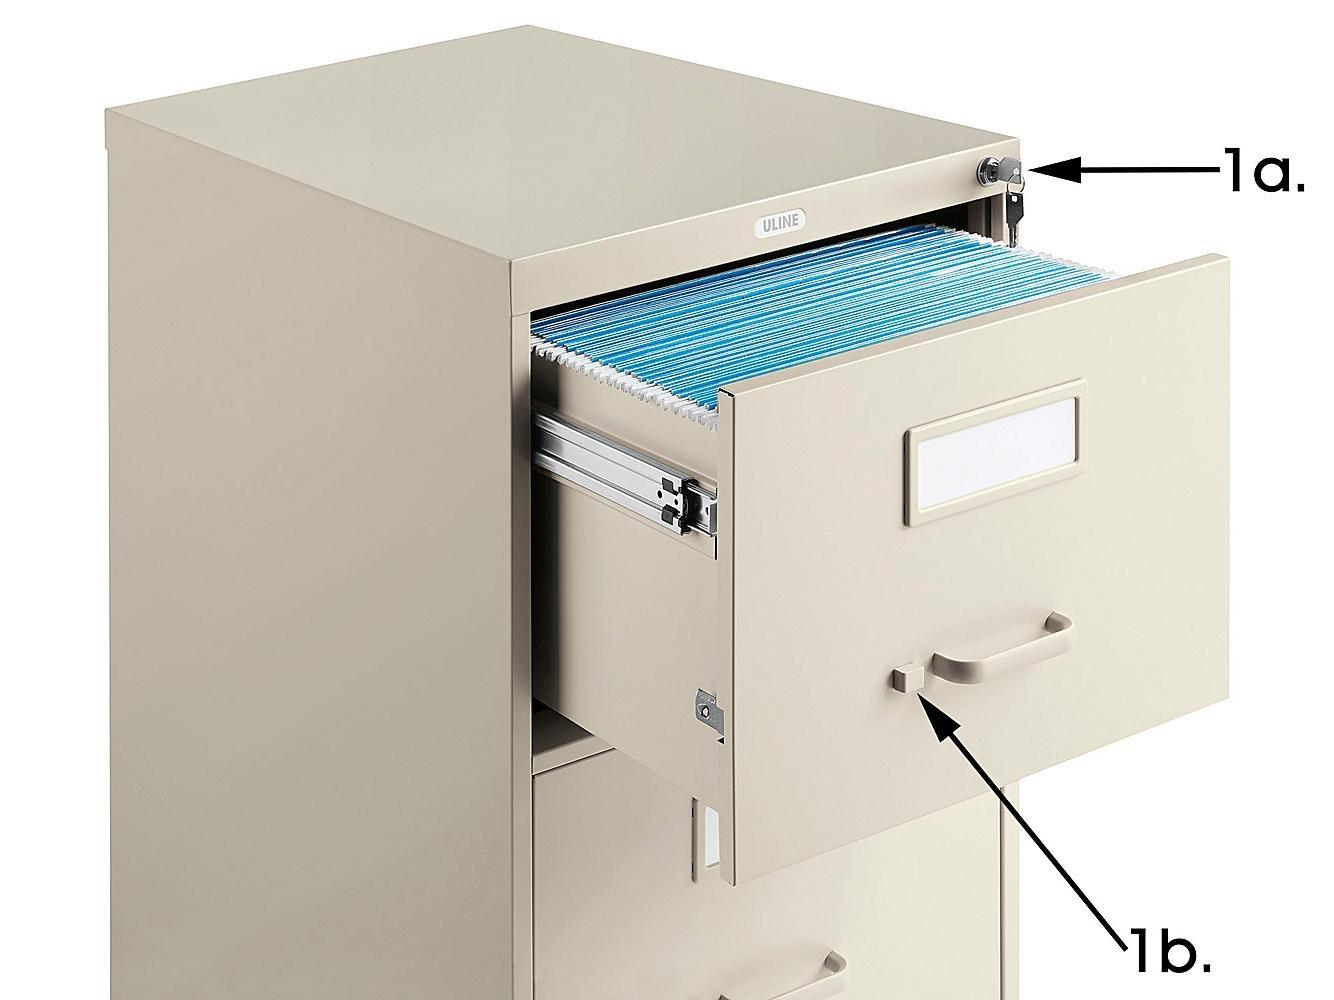Filing Cabinet: (508, 136, 1232, 999)
